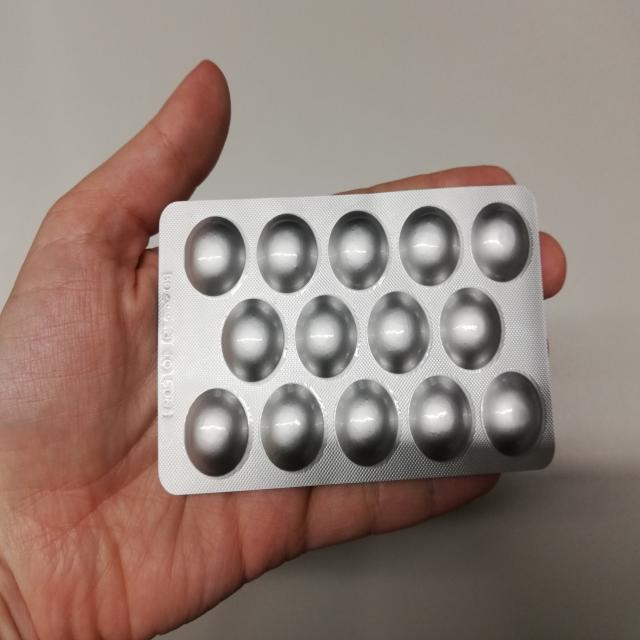Pill: (331, 380, 404, 478), (180, 383, 246, 480), (261, 381, 327, 478), (179, 209, 249, 300), (411, 374, 472, 476), (328, 202, 393, 296), (478, 372, 546, 461), (468, 198, 536, 285), (289, 298, 362, 378), (254, 208, 320, 294), (399, 198, 457, 291), (218, 302, 283, 383), (370, 294, 429, 376), (443, 294, 500, 372)
